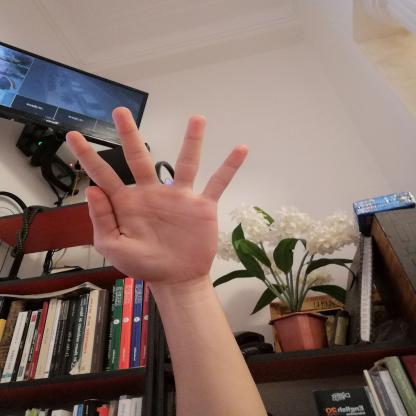SHEEN: (51, 98, 264, 291)
